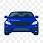car: (3, 10, 39, 35), (4, 10, 39, 35)
